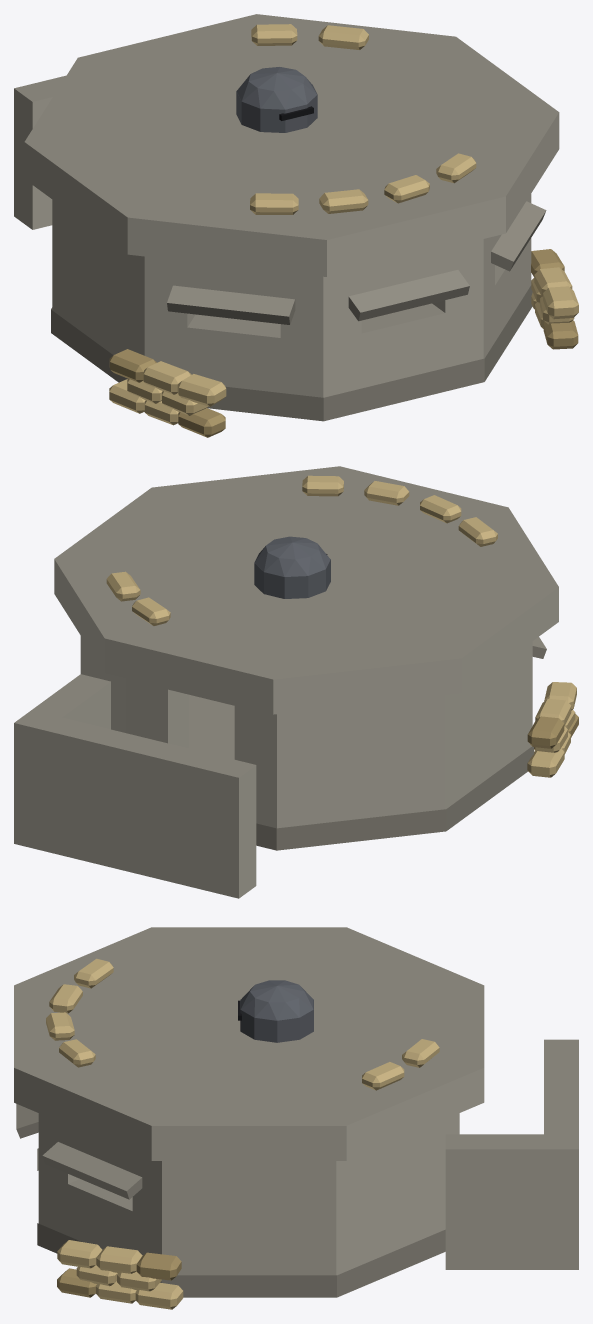
Rendered from bunker_pillbox.glb.
The picture shows the model from 3 angles, top to bottom: view 1: azimuth 30°, elevation 25°; view 2: azimuth 150°, elevation 25°; view 3: azimuth 270°, elevation 25°; orthographic projection. The views are drawn at different scales.
Visible parts, largest first — view 1: LOD0; view 2: LOD0; view 3: LOD0.
Boxes of the visible parts, x1=… form: LOD0: x1=14, y1=14, x2=578, y2=437; LOD0: x1=14, y1=466, x2=578, y2=898; LOD0: x1=14, y1=927, x2=578, y2=1309.
Size of what is drawn, in the model's own units: 6.94 by 3.5 by 8.05.
Materials: 1 (1 with a texture image).
